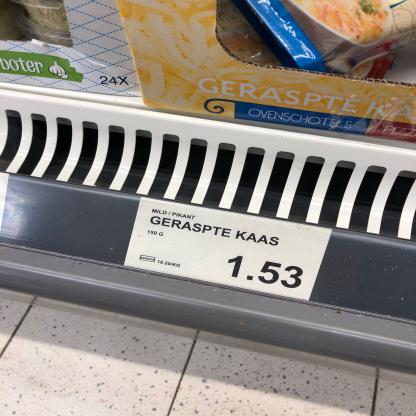prtg: (125, 198, 334, 303)
